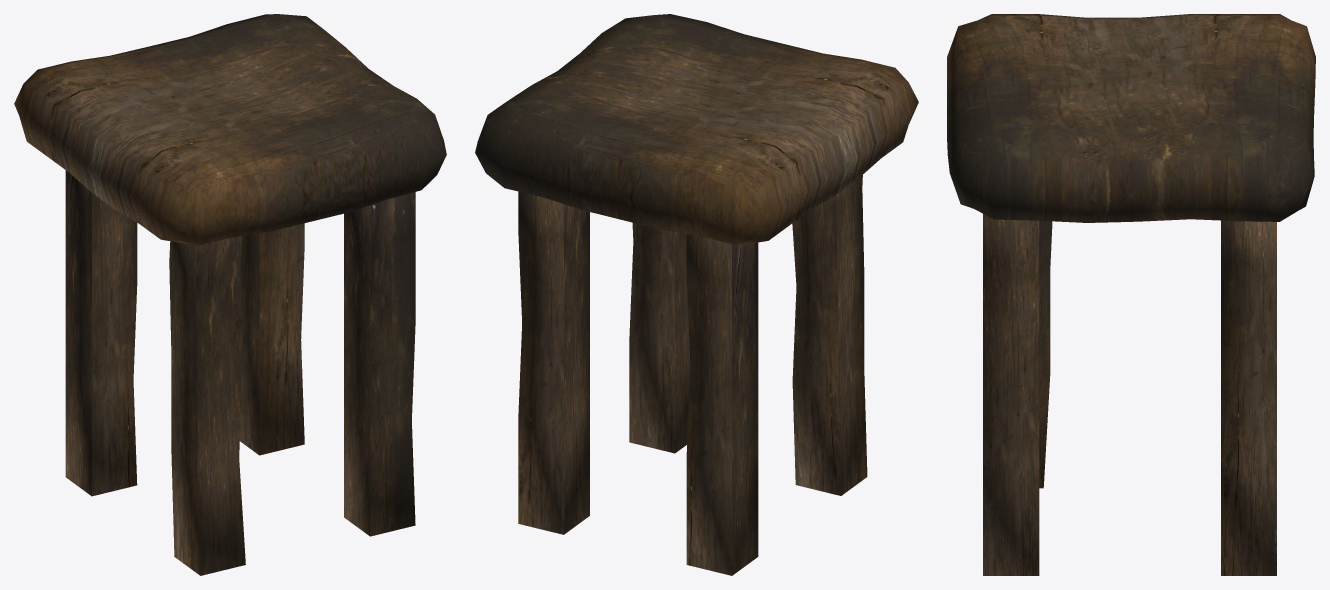
The model's file is stool.obj.
3 views of the same model, side by side, from view 1: azimuth 30°, elevation 25°; view 2: azimuth 150°, elevation 25°; view 3: azimuth 270°, elevation 25° (orthographic). The views are drawn at different scales.
Parts seen in each view (by area): view 1: stool; view 2: stool; view 3: stool.
Part boxes in pixels (bbox=[...]): stool: bbox=[14, 14, 446, 575]; stool: bbox=[475, 14, 918, 575]; stool: bbox=[947, 14, 1315, 575].
Bounding box in the file's own units: 0.5357 × 0.7064 × 0.5357.
Materials: 1 (1 with a texture image).
